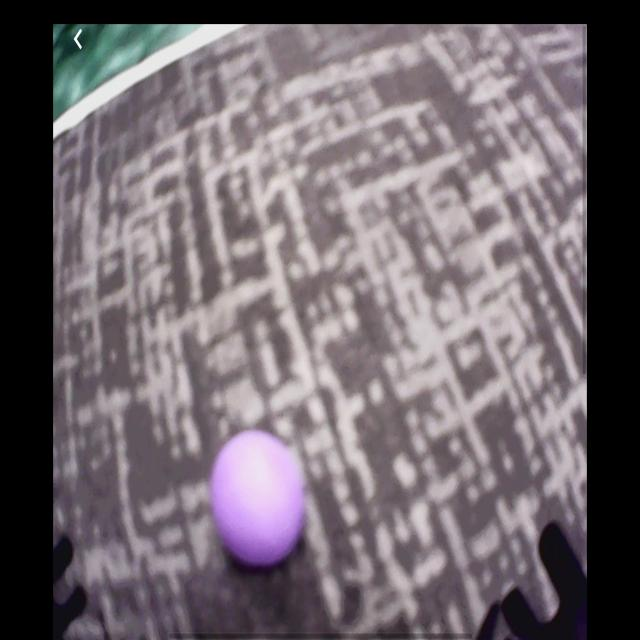ball: (213, 430, 308, 573)
